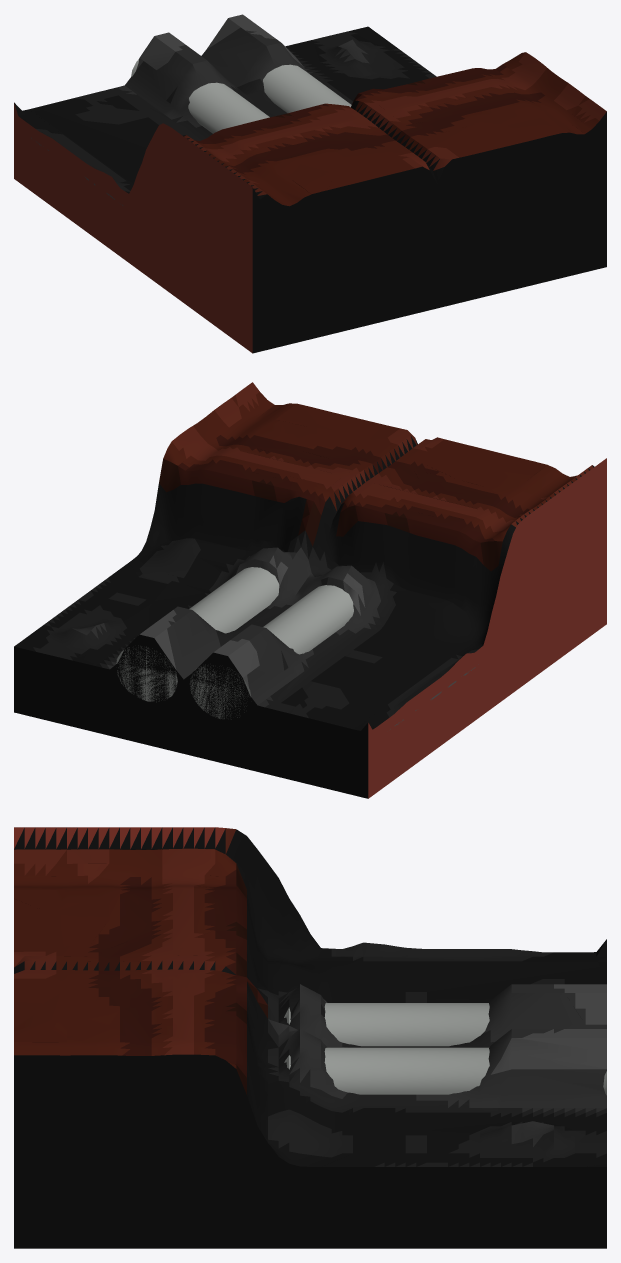
Rendered from savara_boss_234.glb.
3 renders of one model, top to bottom at view 1: azimuth 30°, elevation 25°; view 2: azimuth 150°, elevation 25°; view 3: azimuth 270°, elevation 25°, orthographic. The views are drawn at different scales.
Parts seen in each view (by area): view 1: savara_boss_234_hull; view 2: savara_boss_234_hull; view 3: savara_boss_234_hull.
Part boxes in pixels (bbox=[...]): savara_boss_234_hull: bbox=[14, 14, 606, 353]; savara_boss_234_hull: bbox=[14, 382, 606, 798]; savara_boss_234_hull: bbox=[14, 827, 606, 1248].
Bounding box in the file's own units: 24 × 10.78 × 28.
